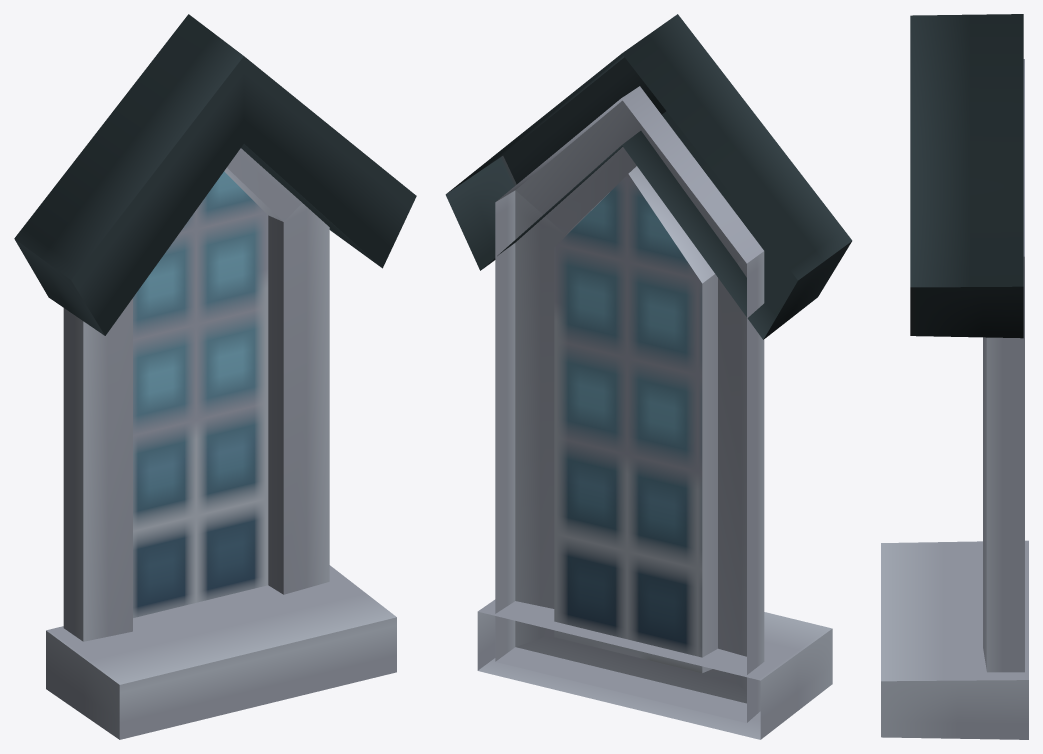
File: window_curch_v4_001.fbx
3 renders of one model, left to right at view 1: azimuth 30°, elevation 25°; view 2: azimuth 150°, elevation 25°; view 3: azimuth 270°, elevation 25°, orthographic. The views are drawn at different scales.
Parts seen in each view (by area): view 1: window_curch_v4_001; view 2: window_curch_v4_001; view 3: window_curch_v4_001.
Boxes of the visible parts, x1,y1,x2,y2 form: window_curch_v4_001: (14,14,416,739); window_curch_v4_001: (445,14,852,739); window_curch_v4_001: (881,14,1028,739).
Size of the model in its own units: 105 by 186 by 37.93.
